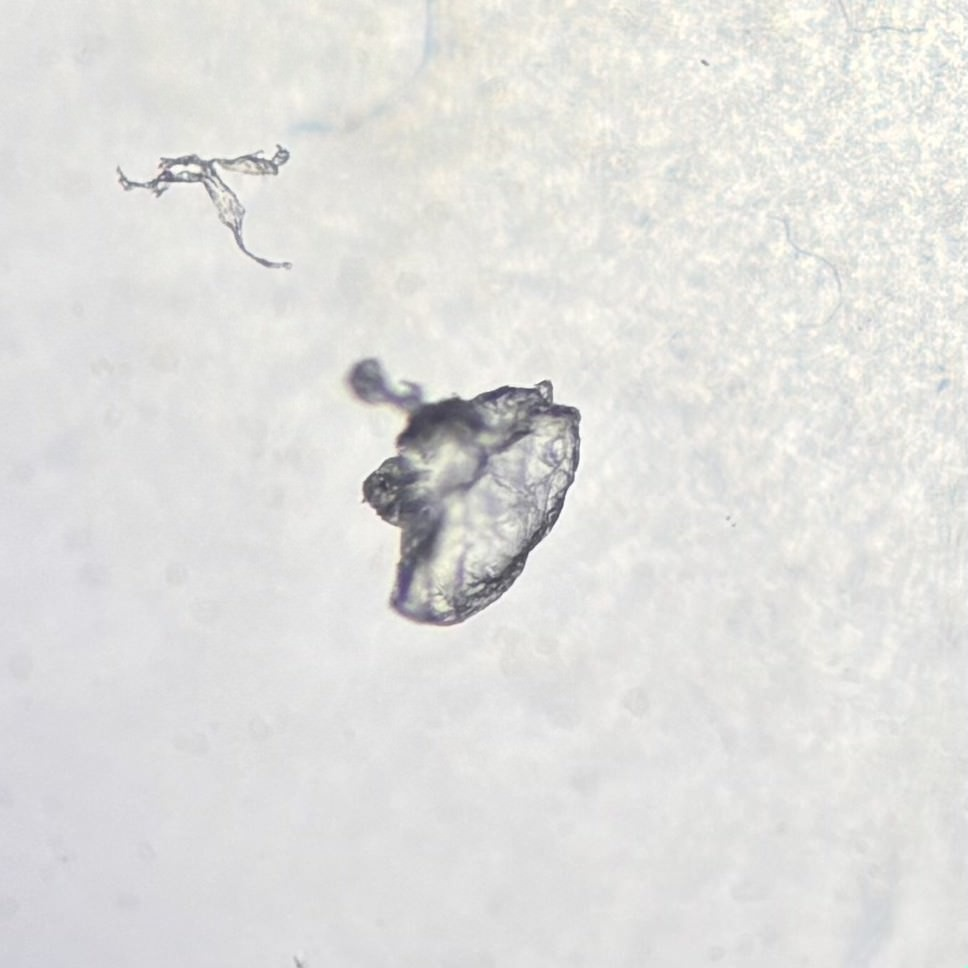microplastic: (342, 355, 584, 630), (109, 145, 308, 275)
